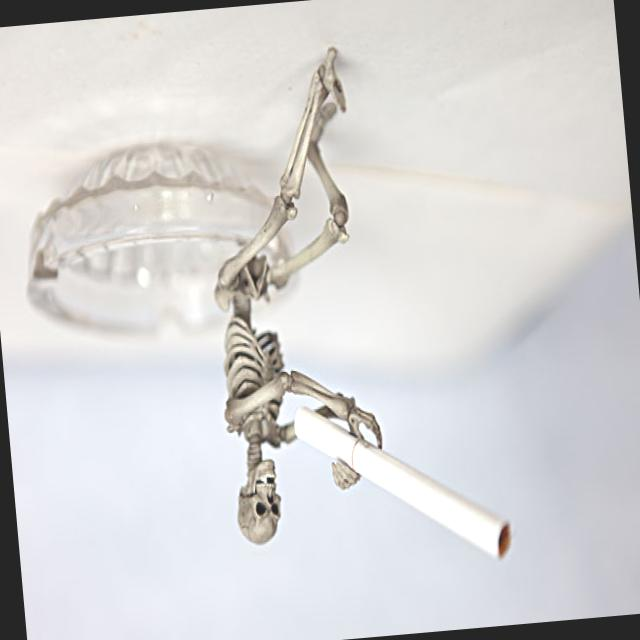smoke: (354, 427, 515, 578)
